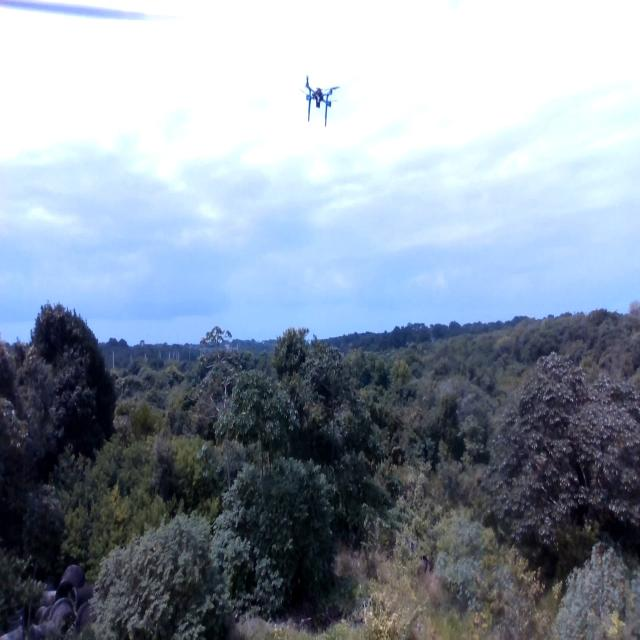-uav-: (297, 68, 341, 136)
